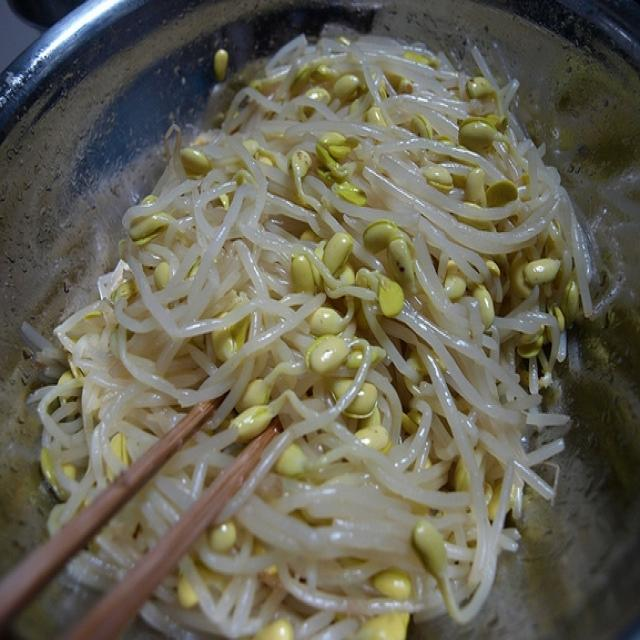带馅早点: (217, 152, 512, 484)
